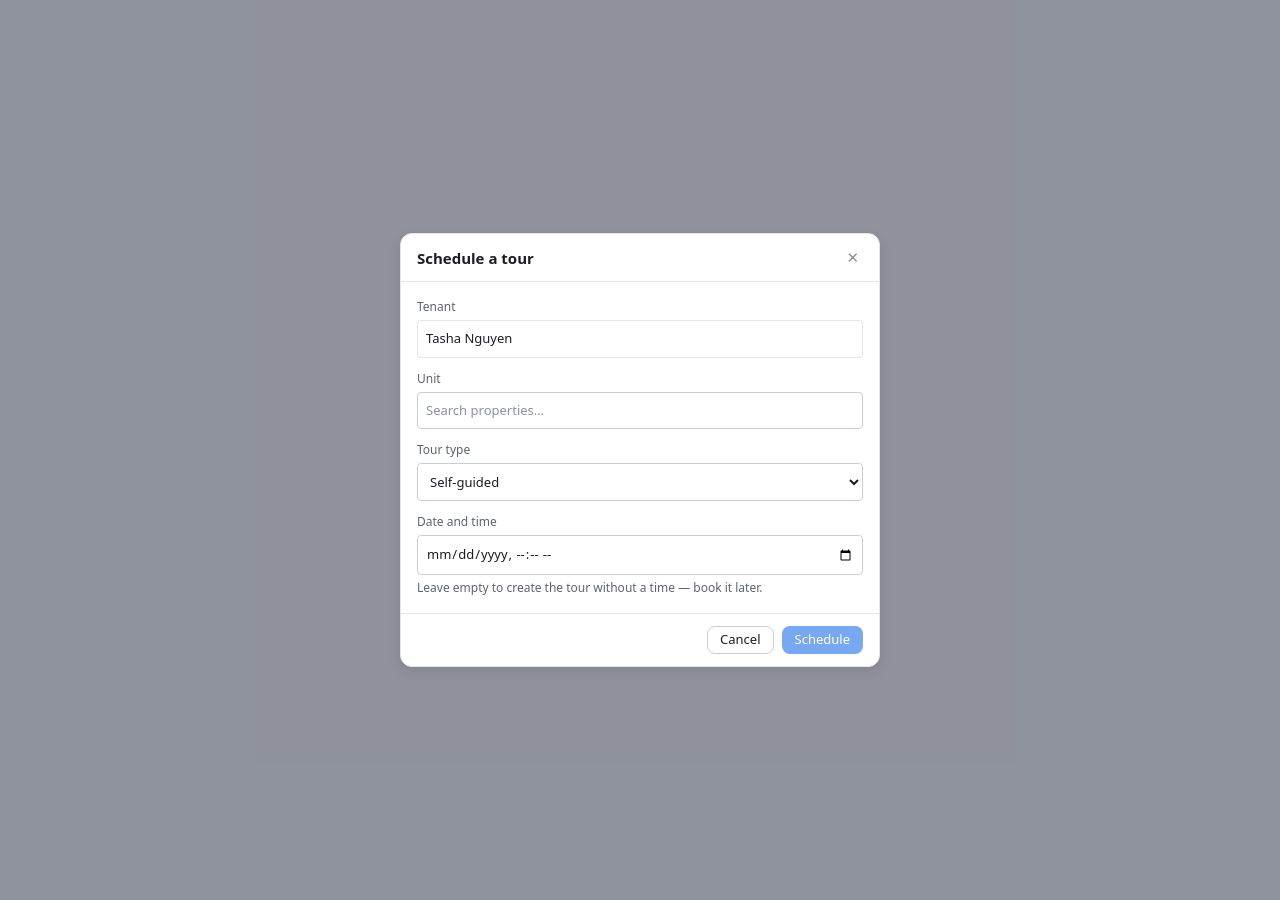
ScheduleTourForm › prefills the Tour type landlord_led when the picked unit tour_process mentions the landlord
Expected: the dialog "Schedule a tour" is shown, left=400, top=233, right=880, bottom=667
Type "Joseph" into the dropdown named "Unit".
click(640, 411); type("Joseph")  # box left=417, top=392, right=863, bottom=429
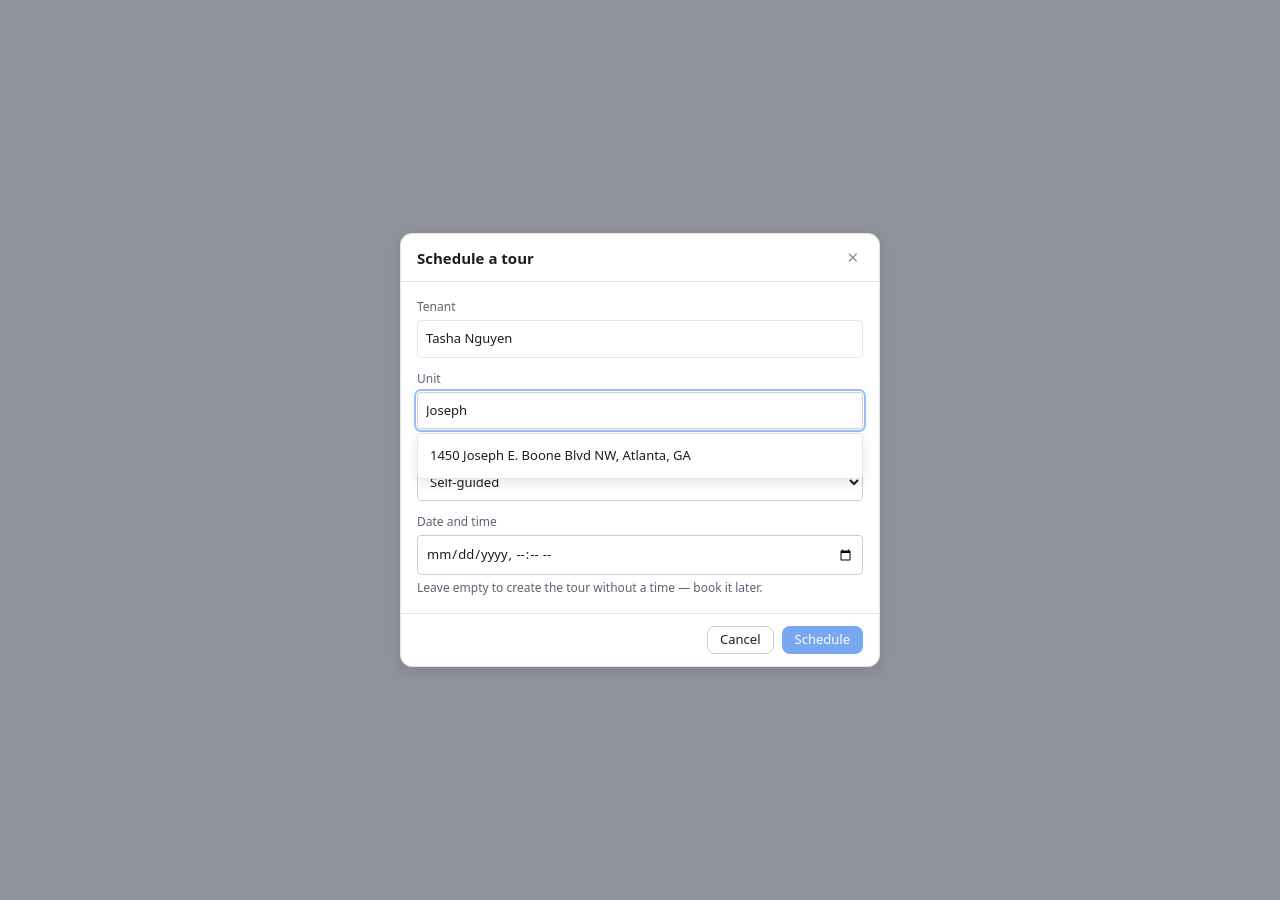
Click the option "1450 Joseph E. Boone Blvd NW, Atlanta, GA".
click(560, 455)  # box left=430, top=446, right=691, bottom=464
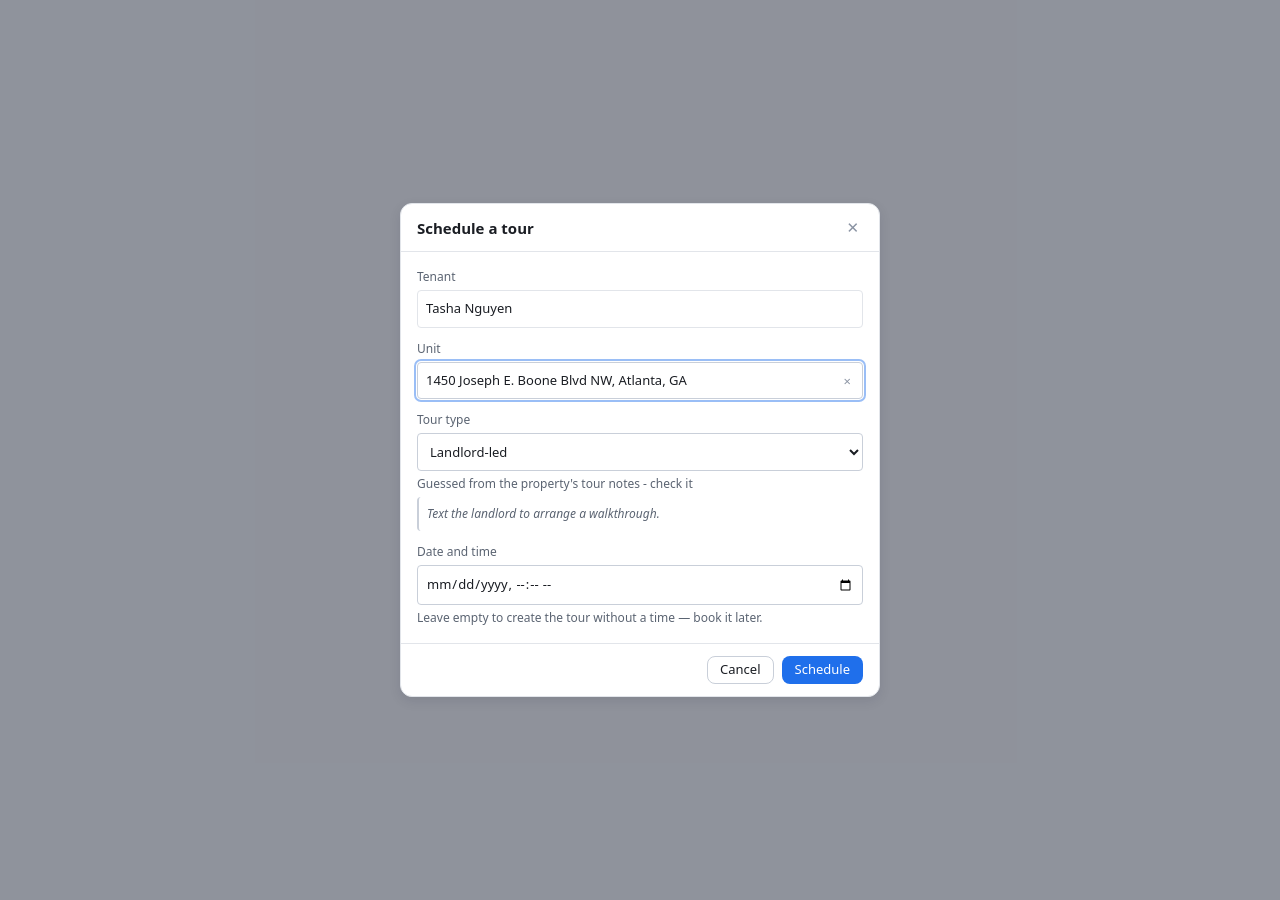
Expected: the dropdown named "Tour type" shows "Landlord-led", left=417, top=433, right=863, bottom=471
